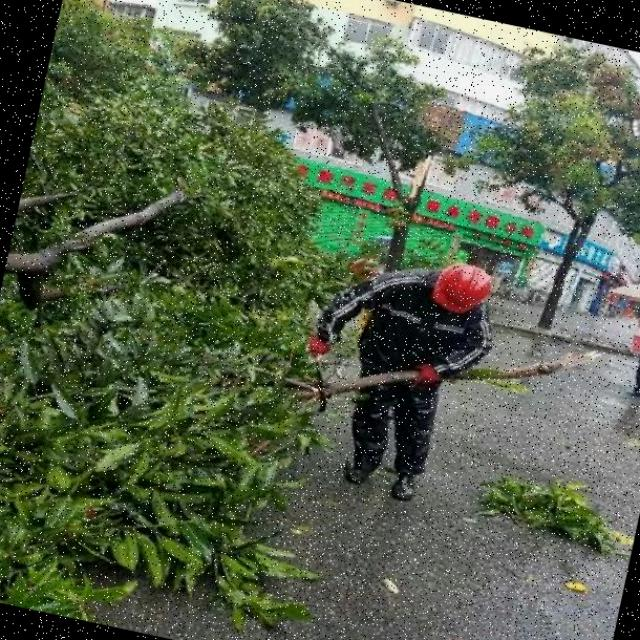fallen_object: (0, 228, 606, 640), (2, 72, 342, 343)
